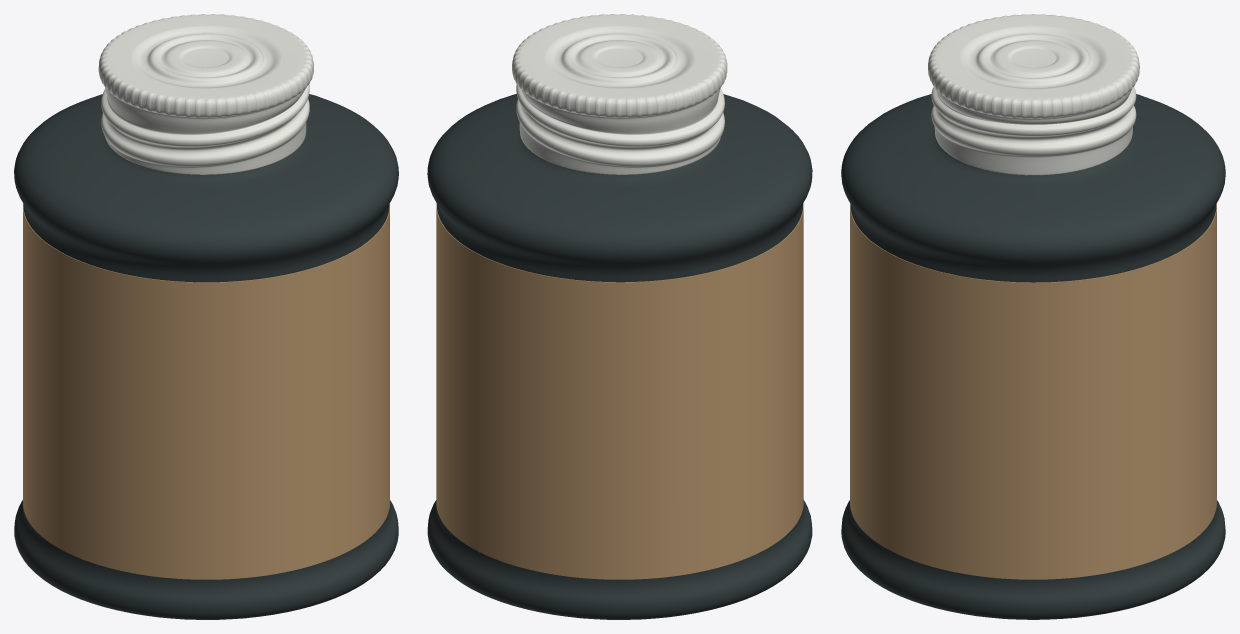
The model's file is consumable_lubricant_antiSeize_a01.glb.
The picture shows the model from 3 angles, left to right: view 1: azimuth 30°, elevation 25°; view 2: azimuth 150°, elevation 25°; view 3: azimuth 270°, elevation 25°; orthographic projection.
Size of the model in its own units: 0.0902 by 0.1258 by 0.0902.
